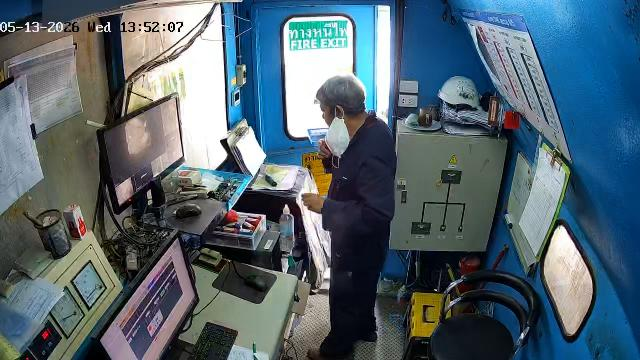Head: (316, 74, 365, 124)
People: (303, 75, 396, 359)
